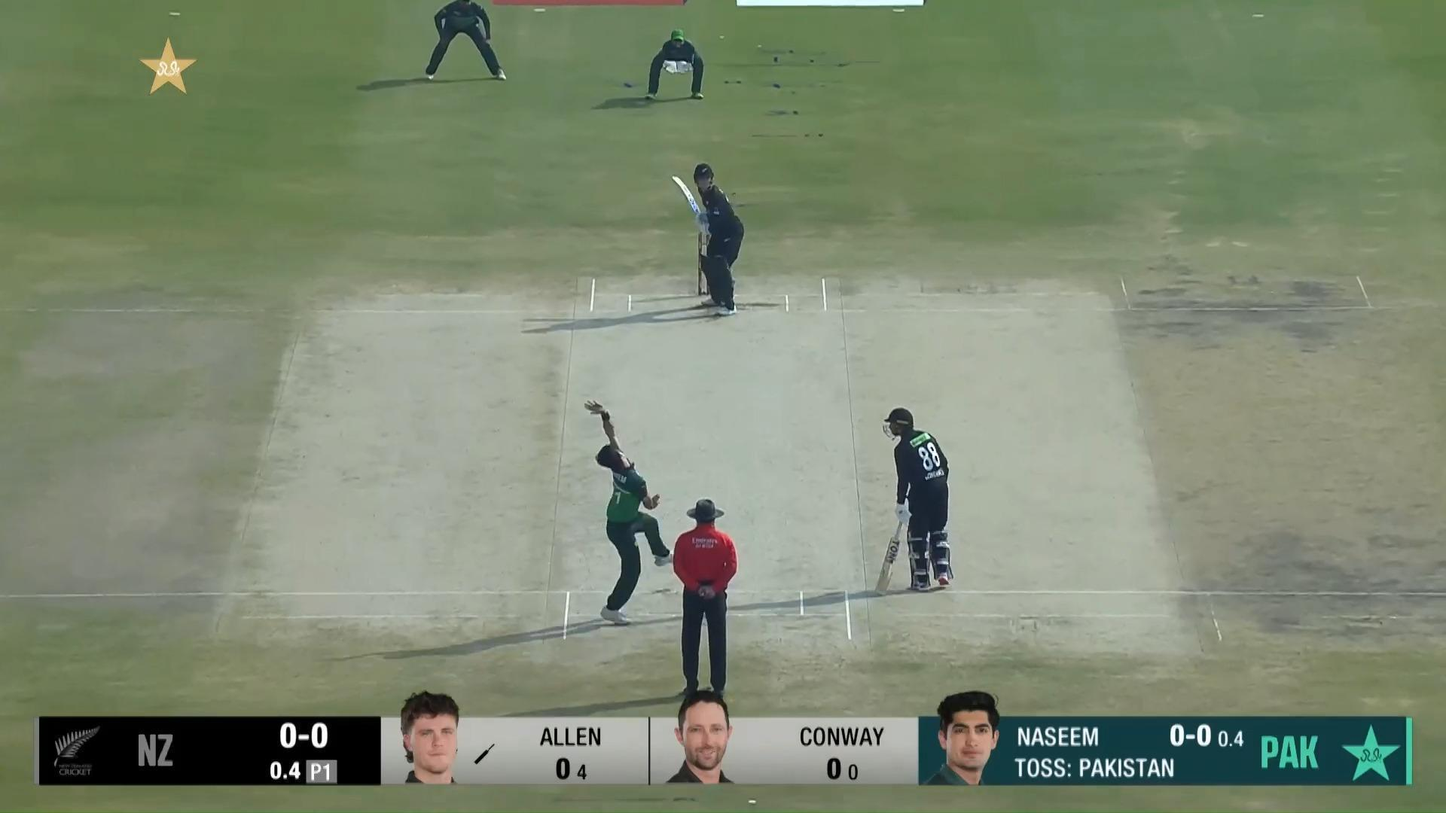BM 1: (671, 162, 745, 318)
BO: (583, 397, 674, 625)
